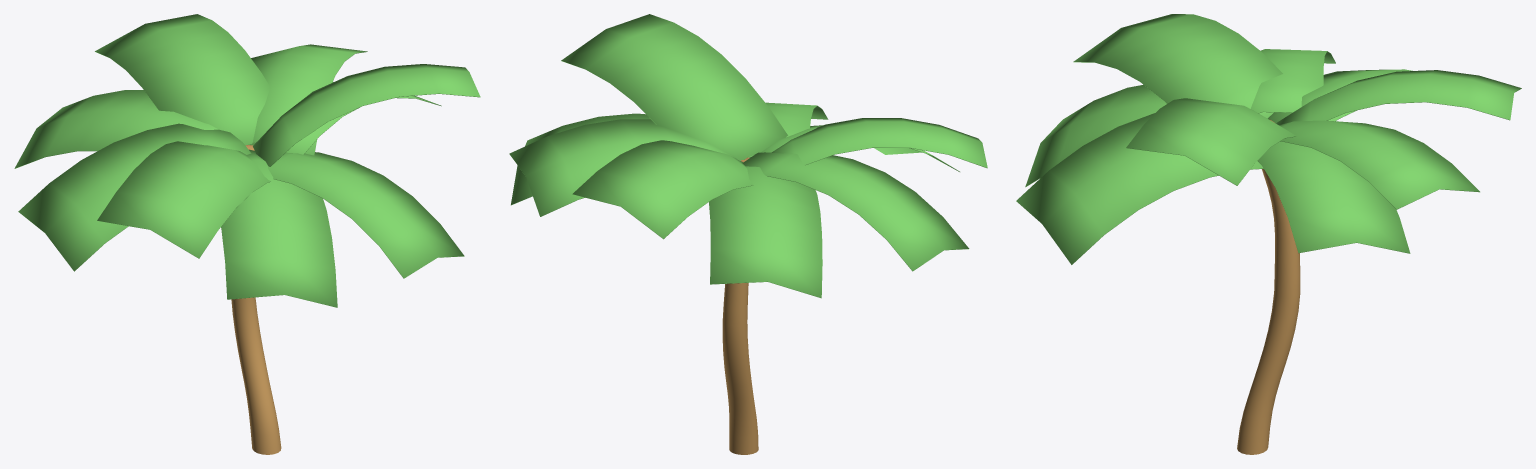
Rendered from PalmTree.fbx.
3 renders of one model, left to right at view 1: azimuth 30°, elevation 25°; view 2: azimuth 150°, elevation 25°; view 3: azimuth 270°, elevation 25°, orthographic. The views are drawn at different scales.
Visible parts, largest first — view 1: PalmTreeLeaves, PalmTreeRoot; view 2: PalmTreeLeaves, PalmTreeRoot; view 3: PalmTreeLeaves, PalmTreeRoot.
Part boxes in pixels (x1,y1,x2,y2): PalmTreeLeaves: (14,14,480,307); PalmTreeRoot: (231,145,281,454); PalmTreeLeaves: (509,14,987,298); PalmTreeRoot: (722,157,758,454); PalmTreeLeaves: (1016,14,1521,264); PalmTreeRoot: (1237,119,1300,454).
Bounding box in the file's own units: 899 × 766 × 906.
